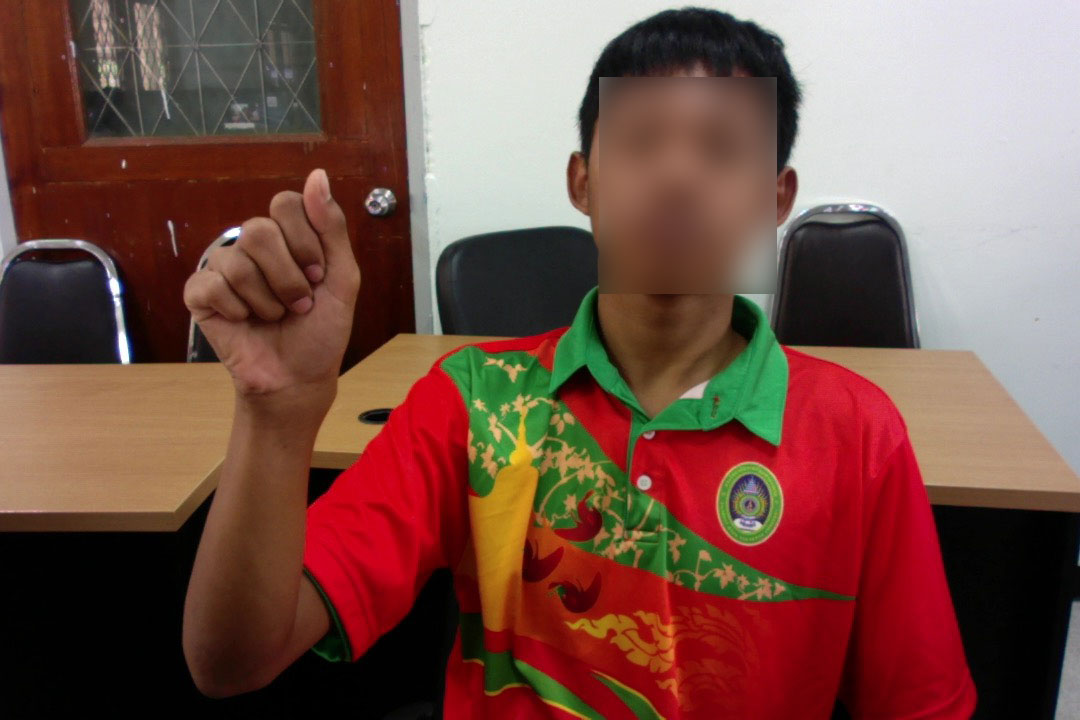or: (175, 155, 375, 411)
